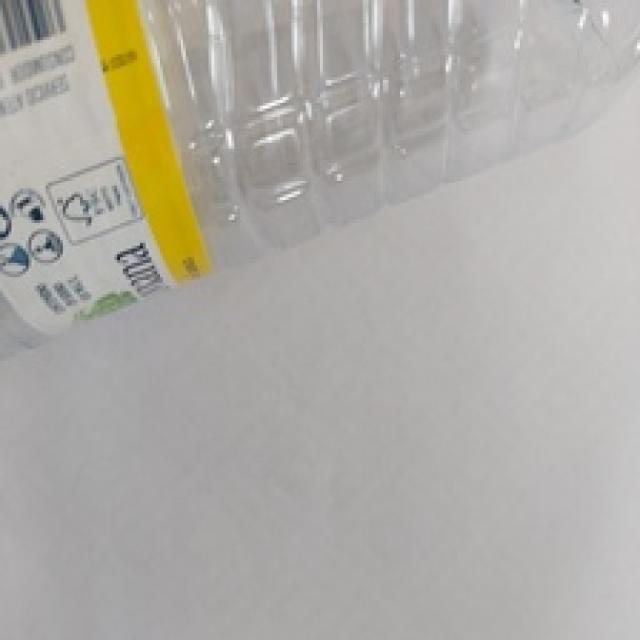good: (3, 0, 640, 380)
